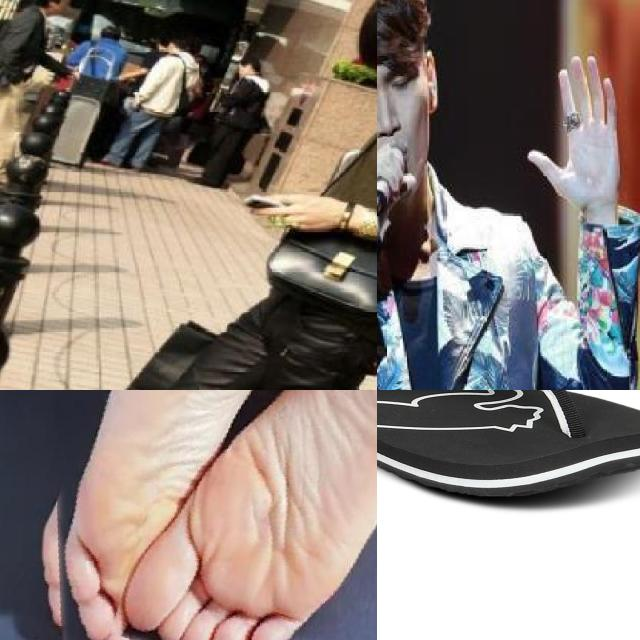Barefoots: (0, 390, 362, 640), (129, 390, 377, 640)
Sandals: (377, 390, 640, 499)
face_nomask: (377, 50, 432, 171)
hand_noglove: (523, 55, 623, 209), (377, 144, 417, 248), (250, 194, 343, 234)
head_nohelmet: (377, 0, 436, 68), (33, 0, 73, 14)
person: (73, 0, 377, 390), (377, 0, 640, 390), (140, 32, 206, 190), (0, 0, 48, 171), (78, 16, 123, 92)
